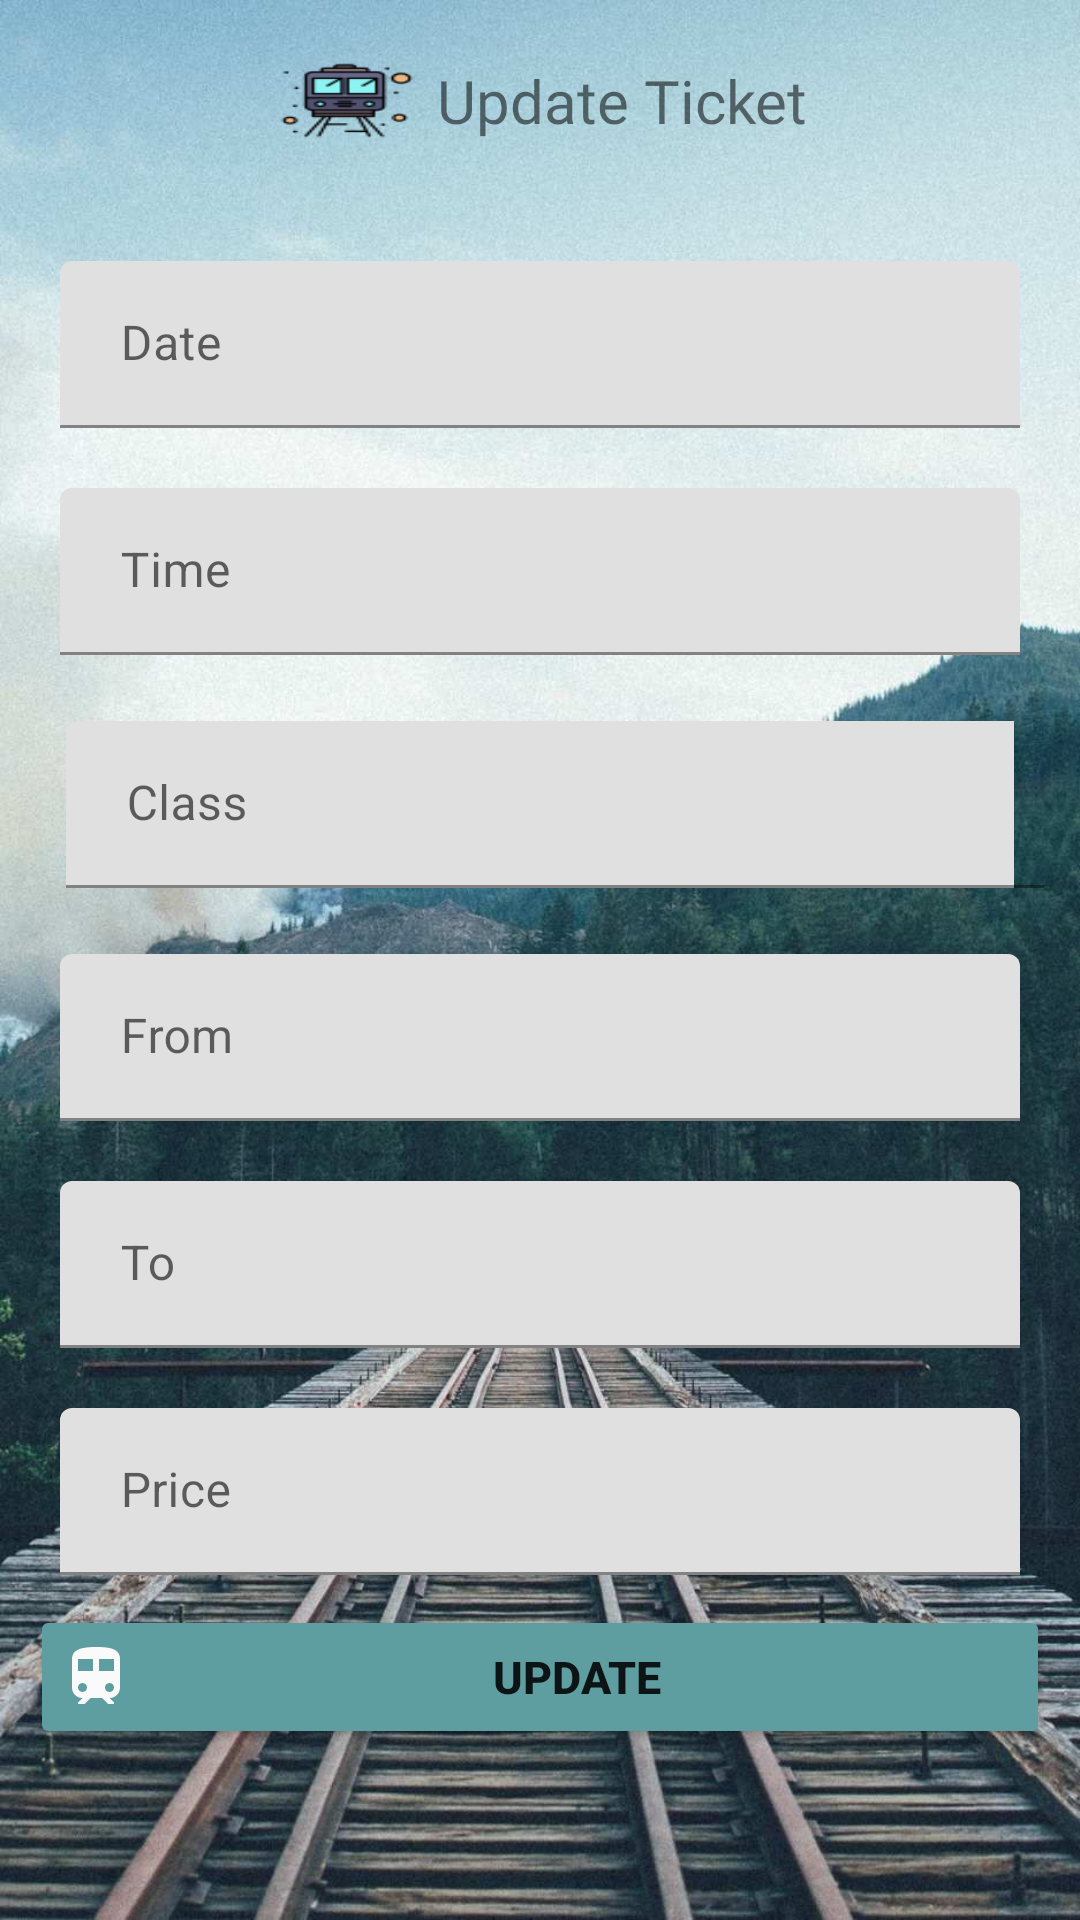

Screen size 1080*1920. Icon name, then its box in pixels as (x1=x1, y1=y1, x2=x2, y2=y2):
toast train: (x1=281, y1=63, x2=413, y2=138)
